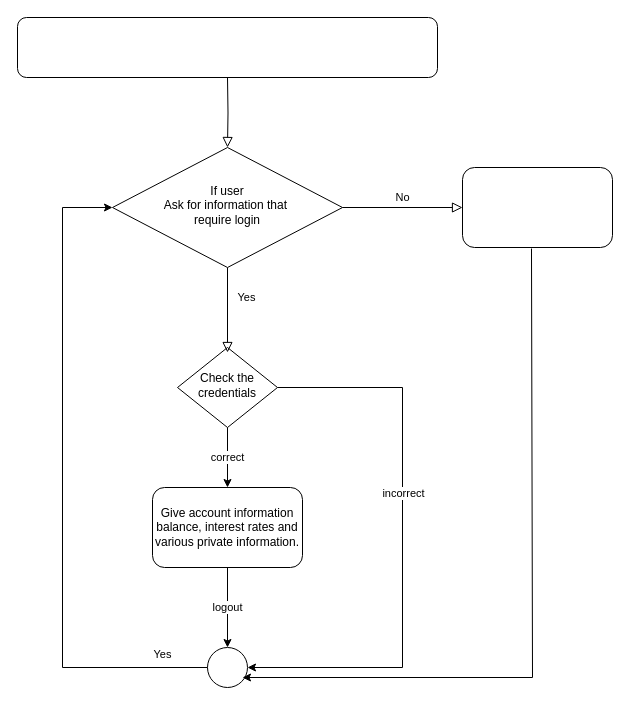
Some shapes in this 630 by 705 pixel diagram are drawn without their labels. Each missing label, with the centre of its shape:
Give information like public bank policies and interest rates.: the point at 537,207
User initiates the bot: the point at 227,47
